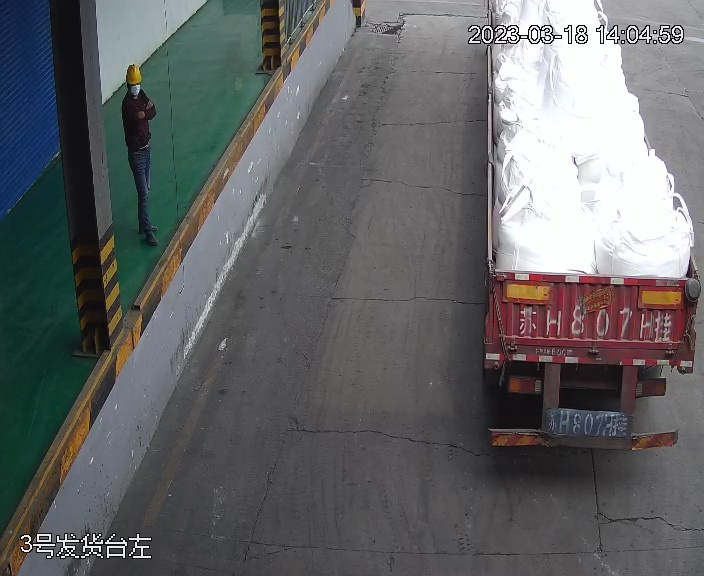head: (120, 61, 153, 116)
helmet: (124, 61, 143, 84)
people: (116, 57, 158, 245)
truck: (475, 1, 702, 449)
